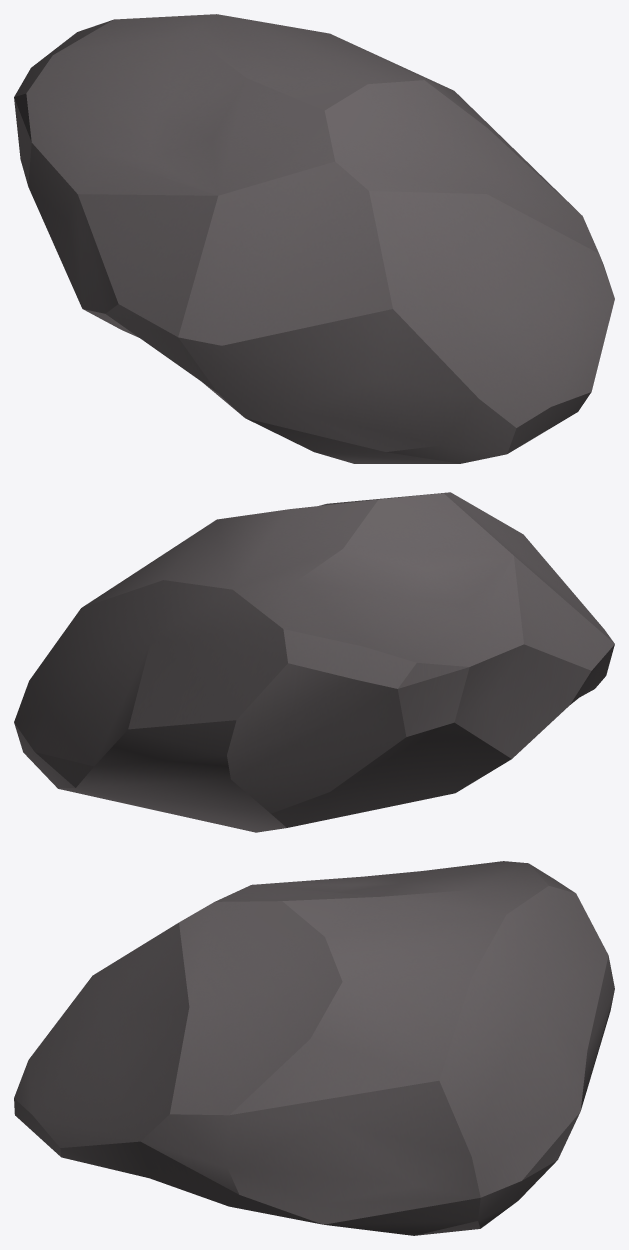
Rendered from Rocks01.fbx.
The picture shows the model from 3 angles, top to bottom: view 1: azimuth 30°, elevation 25°; view 2: azimuth 150°, elevation 25°; view 3: azimuth 270°, elevation 25°; orthographic projection. The views are drawn at different scales.
Parts seen in each view (by area): view 1: Rock.001; view 2: Rock.001; view 3: Rock.001.
Part boxes in pixels (box(x1,y1,x2,y2)): Rock.001: box(14, 14, 614, 463); Rock.001: box(14, 492, 614, 832); Rock.001: box(14, 861, 614, 1235).
Bounding box in the file's own units: 1.71 × 1.01 × 2.15.
